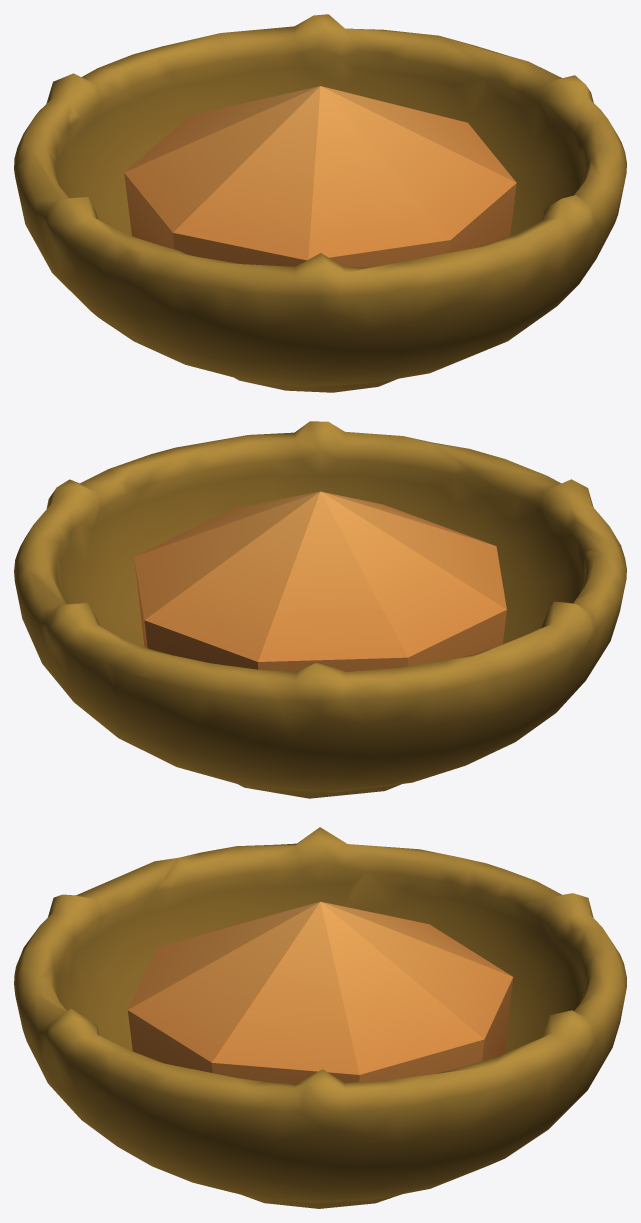
The model's file is braseiro.glb.
3 views of the same model, one above another, from view 1: azimuth 30°, elevation 25°; view 2: azimuth 150°, elevation 25°; view 3: azimuth 270°, elevation 25° (orthographic).
Parts seen in each view (by area): view 1: Tigela, Gema; view 2: Tigela, Gema; view 3: Tigela, Gema.
Boxes of the visible parts, <box> form: Tigela: <box>14,14,626,392</box>; Gema: <box>124,86,516,267</box>; Tigela: <box>14,421,626,798</box>; Gema: <box>134,491,506,671</box>; Tigela: <box>14,827,626,1208</box>; Gema: <box>127,901,513,1083</box>.
Size of the model in its own units: 0.9873 by 0.4541 by 0.9659.
